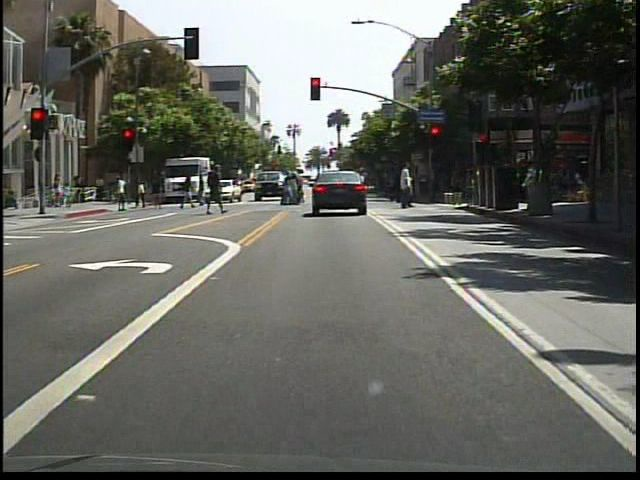person: (203, 163, 227, 218), (392, 160, 416, 210), (315, 169, 336, 213), (179, 173, 199, 213), (115, 173, 132, 215)
